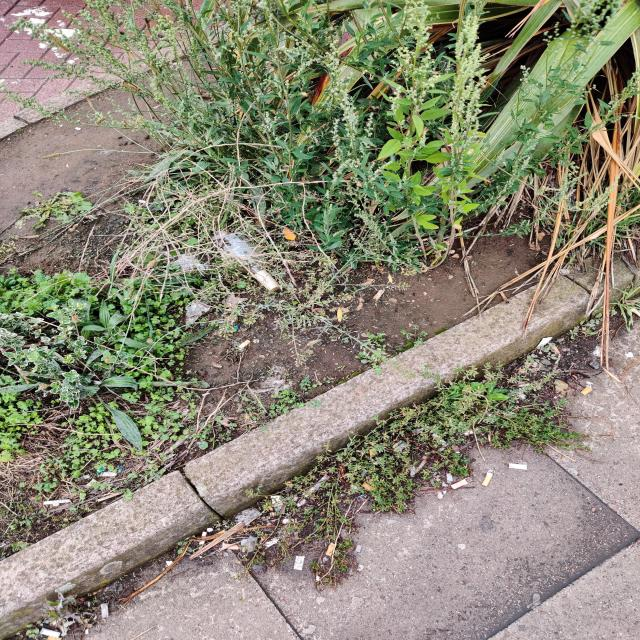litter: (211, 226, 284, 291), (448, 460, 536, 495), (572, 378, 607, 402), (285, 550, 312, 580), (321, 538, 349, 563), (96, 596, 117, 629), (93, 465, 124, 480), (231, 320, 241, 339)
